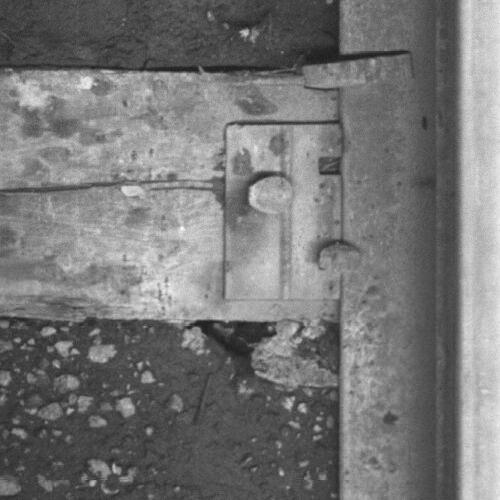crutch: (302, 50, 417, 88)
do: (224, 121, 364, 299)
hole_do: (309, 147, 353, 185)
rail: (457, 1, 500, 500)
tie_wood: (1, 72, 341, 322)
wood_crack: (1, 172, 221, 201)
